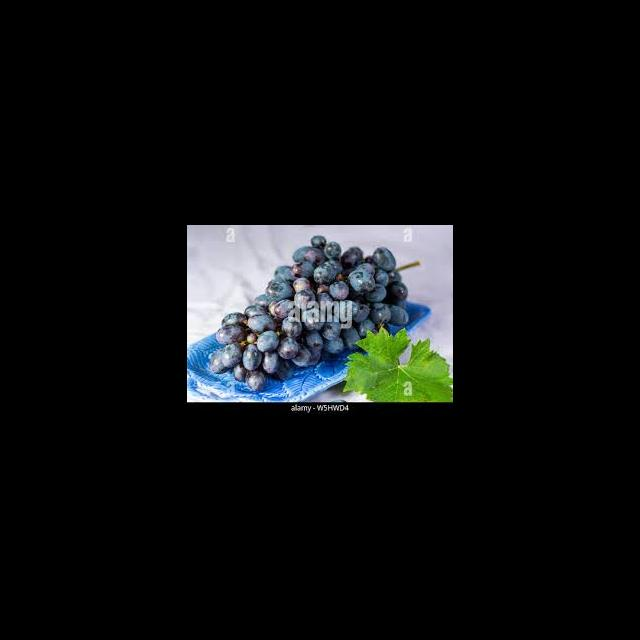grape: (208, 235, 418, 392)
